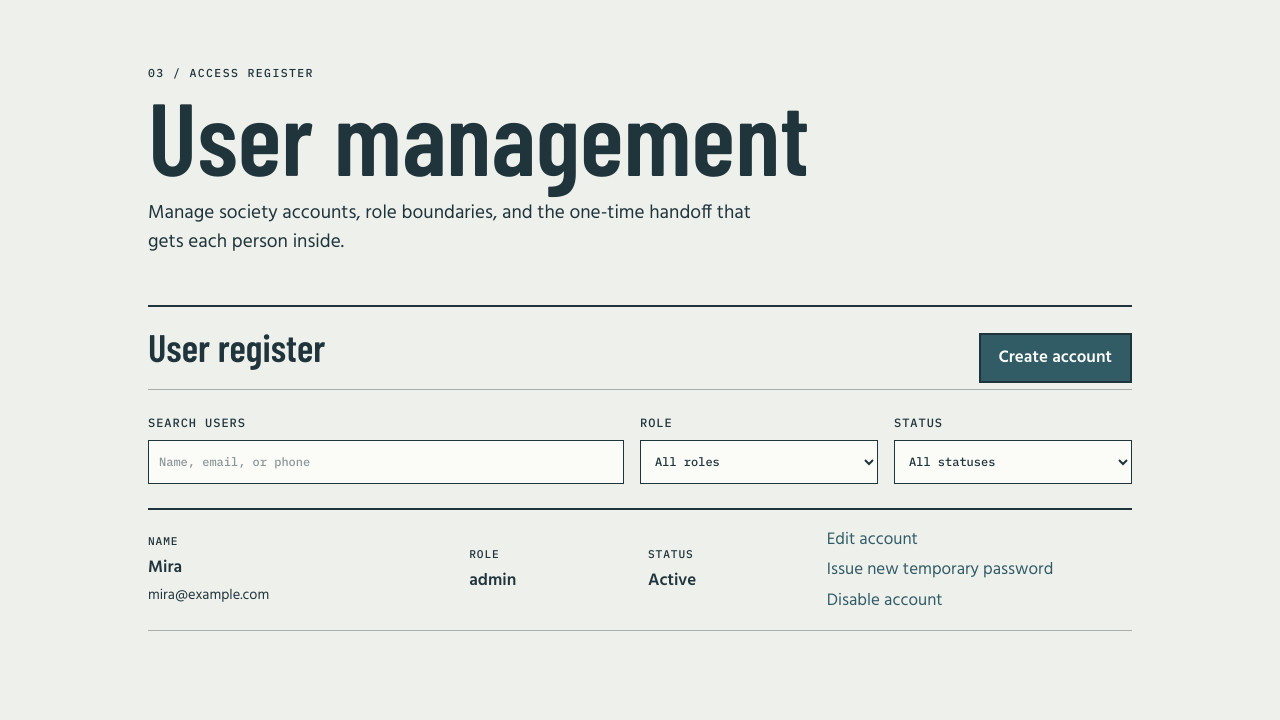
Test case: user management interfaces › retains last-admin status errors and blocks that row action
What coordinates should you click on to do the following:
click the button "Disable account"
I would click on:
 (885, 600)
Its box is [827,588,943,613].
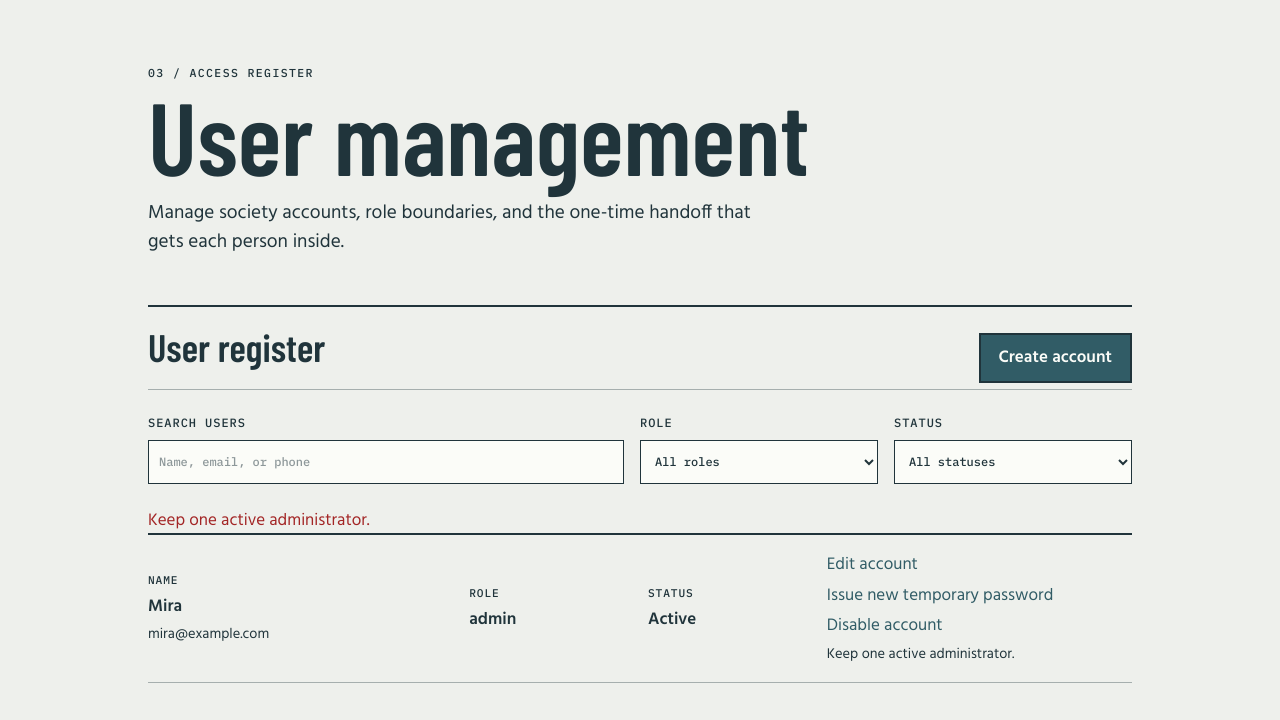
Expected: the text "Keep one active administrator." is shown 2 times, [148,507,370,534]; [827,644,1014,665]
Expected: the button "Disable account" is disabled, [827,613,943,639]
